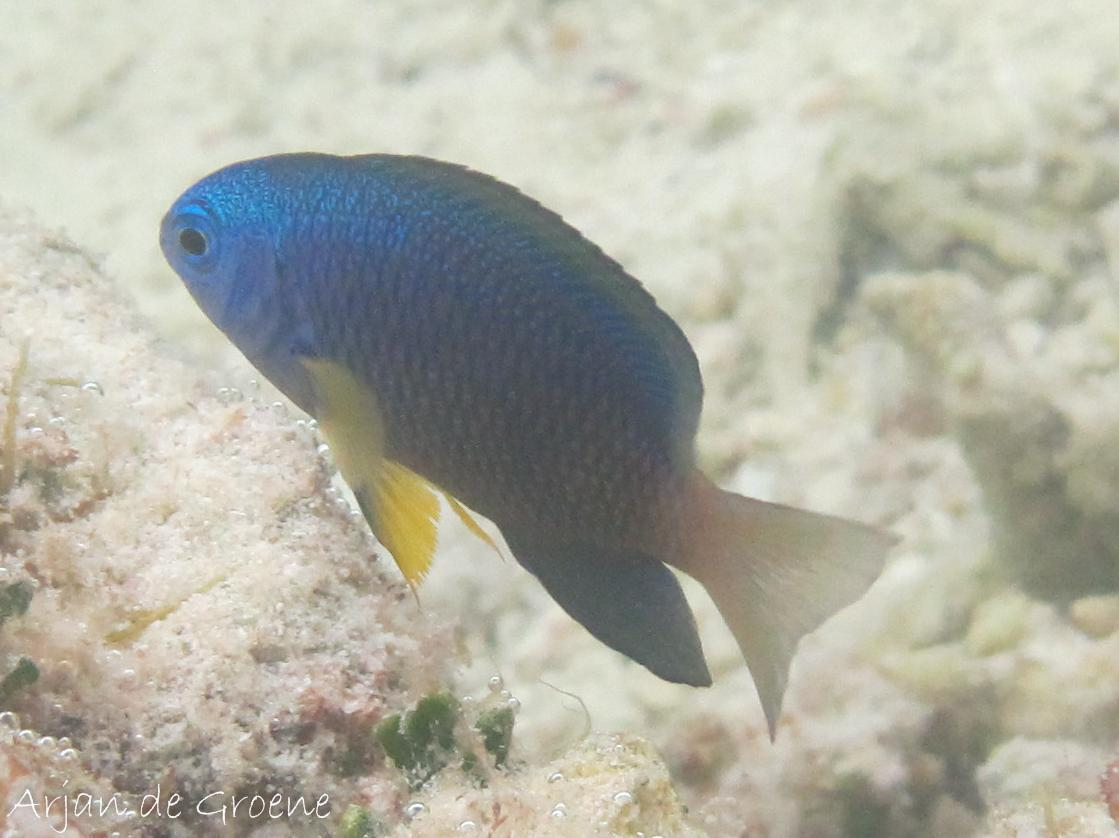Fish: (145, 140, 920, 757)
